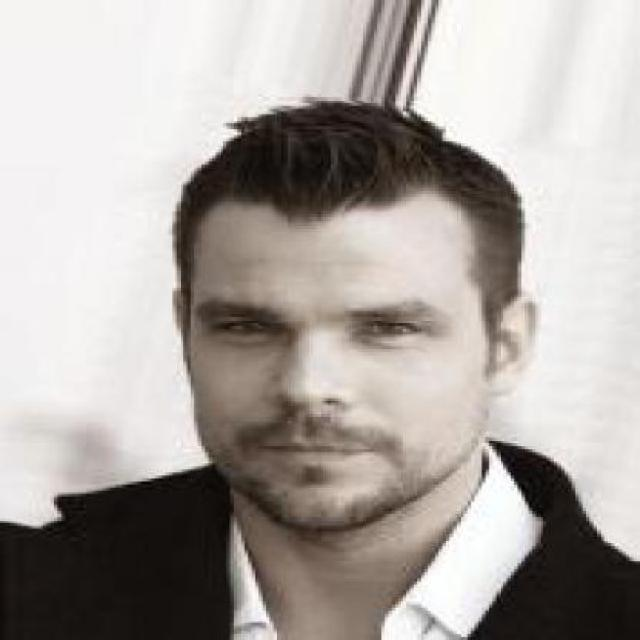closed-mouth: (266, 434, 372, 469)
